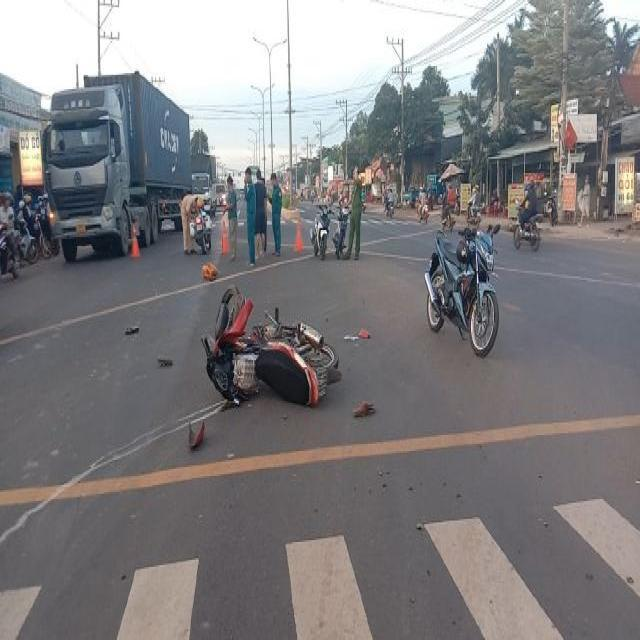multiple_accident: (196, 267, 340, 438)
